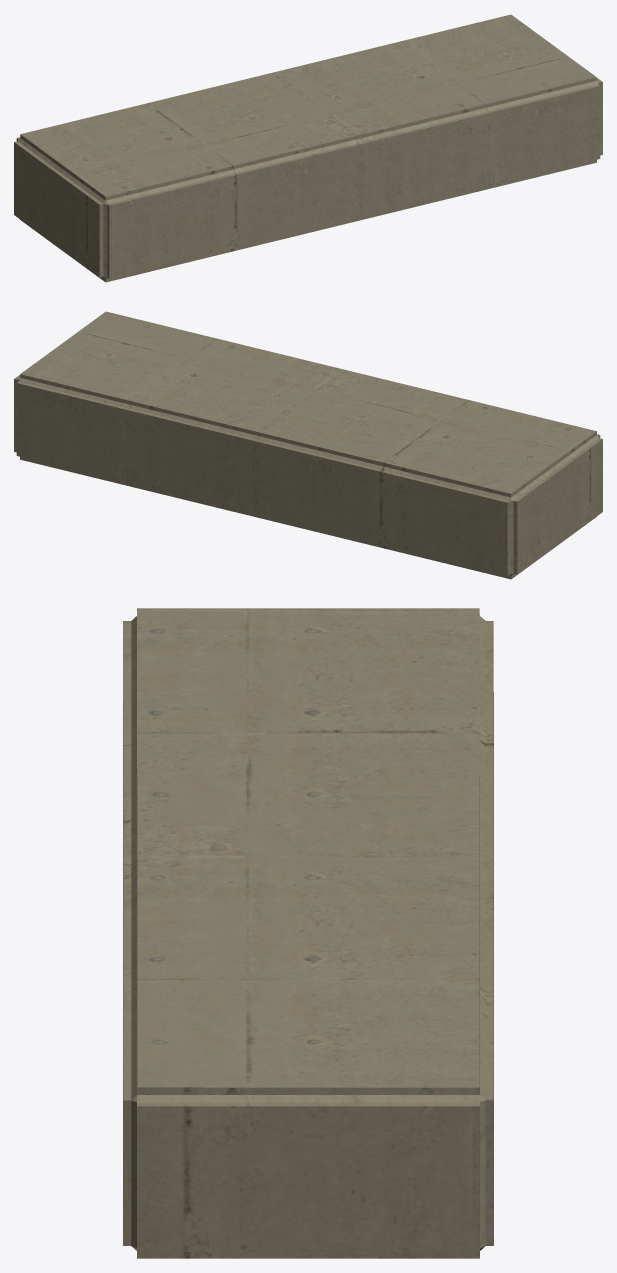
The model's file is CurbStone.fbx.
3 renders of one model, top to bottom at view 1: azimuth 30°, elevation 25°; view 2: azimuth 150°, elevation 25°; view 3: azimuth 270°, elevation 25°, orthographic. The views are drawn at different scales.
Parts seen in each view (by area): view 1: CurbStone; view 2: CurbStone; view 3: CurbStone.
Part boxes in pixels (box(x1,y1,x2,y2)): CurbStone: box(14, 14, 602, 282); CurbStone: box(14, 311, 602, 579); CurbStone: box(123, 608, 493, 1258).
Size of the model in its own units: 99.7 by 16.2 by 31.8.
